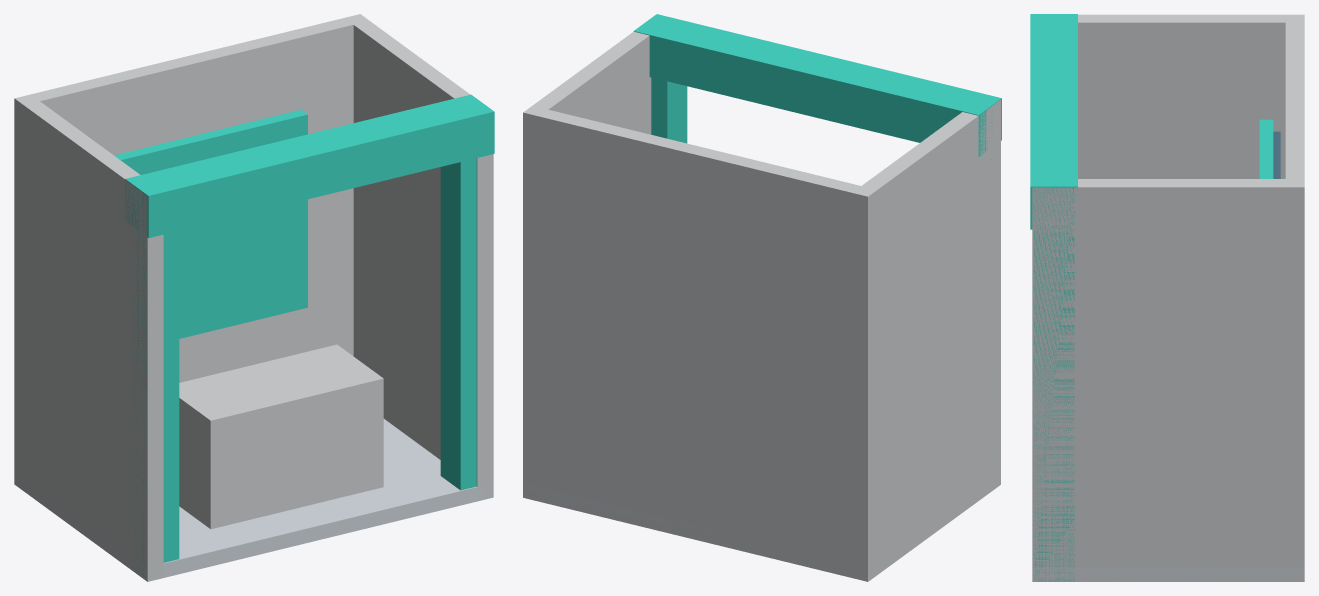
The picture shows the model from 3 angles, left to right: view 1: azimuth 30°, elevation 25°; view 2: azimuth 150°, elevation 25°; view 3: azimuth 270°, elevation 25°; orthographic projection. The views are drawn at different scales.
Visible parts, largest first — view 1: Exhibition Booth Concept; view 2: Exhibition Booth Concept; view 3: Exhibition Booth Concept.
Boxes of the visible parts, x1,y1,x2,y2 form: Exhibition Booth Concept: (14, 14, 494, 581); Exhibition Booth Concept: (523, 14, 1001, 581); Exhibition Booth Concept: (1030, 14, 1304, 581).
Bounding box in the file's own units: 3 × 3.2 × 2.01.
